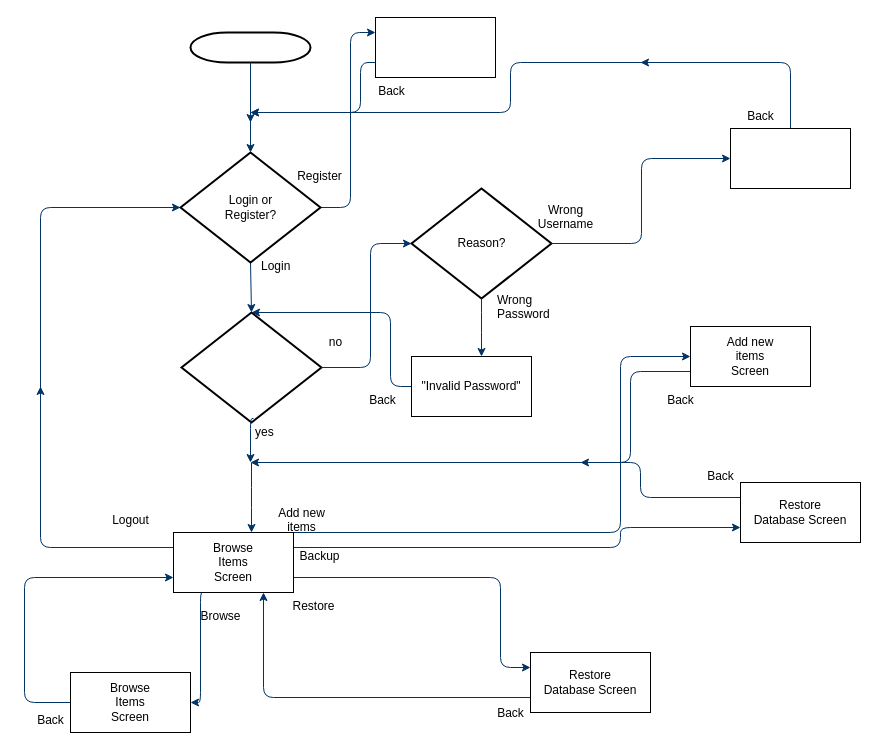
Some shapes in this 878 by 750 pixel diagram are drawn without their labels. Each missing label, with the centre of its shape:
"start" goes at [250,47].
"Unauthorized User" goes at [790,158].
"Unauthorized User Does nothing" goes at [435,47].
"User Authenticates?" goes at [251,367].
